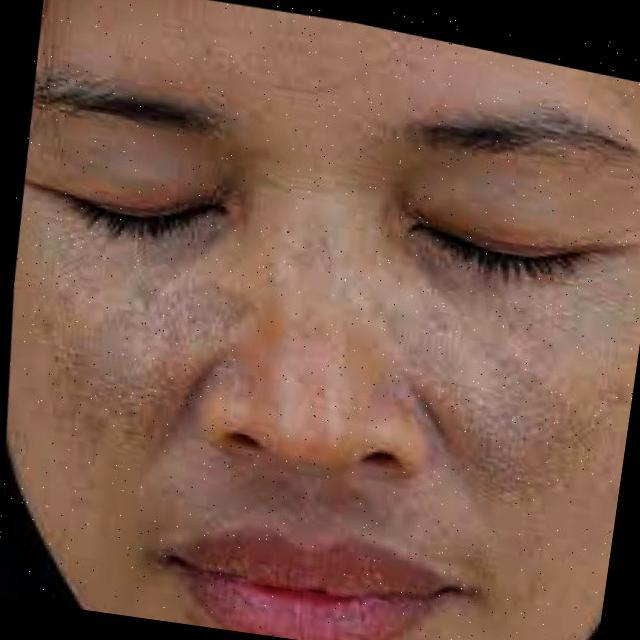pigmentation: (404, 278, 557, 482), (62, 251, 189, 414)
